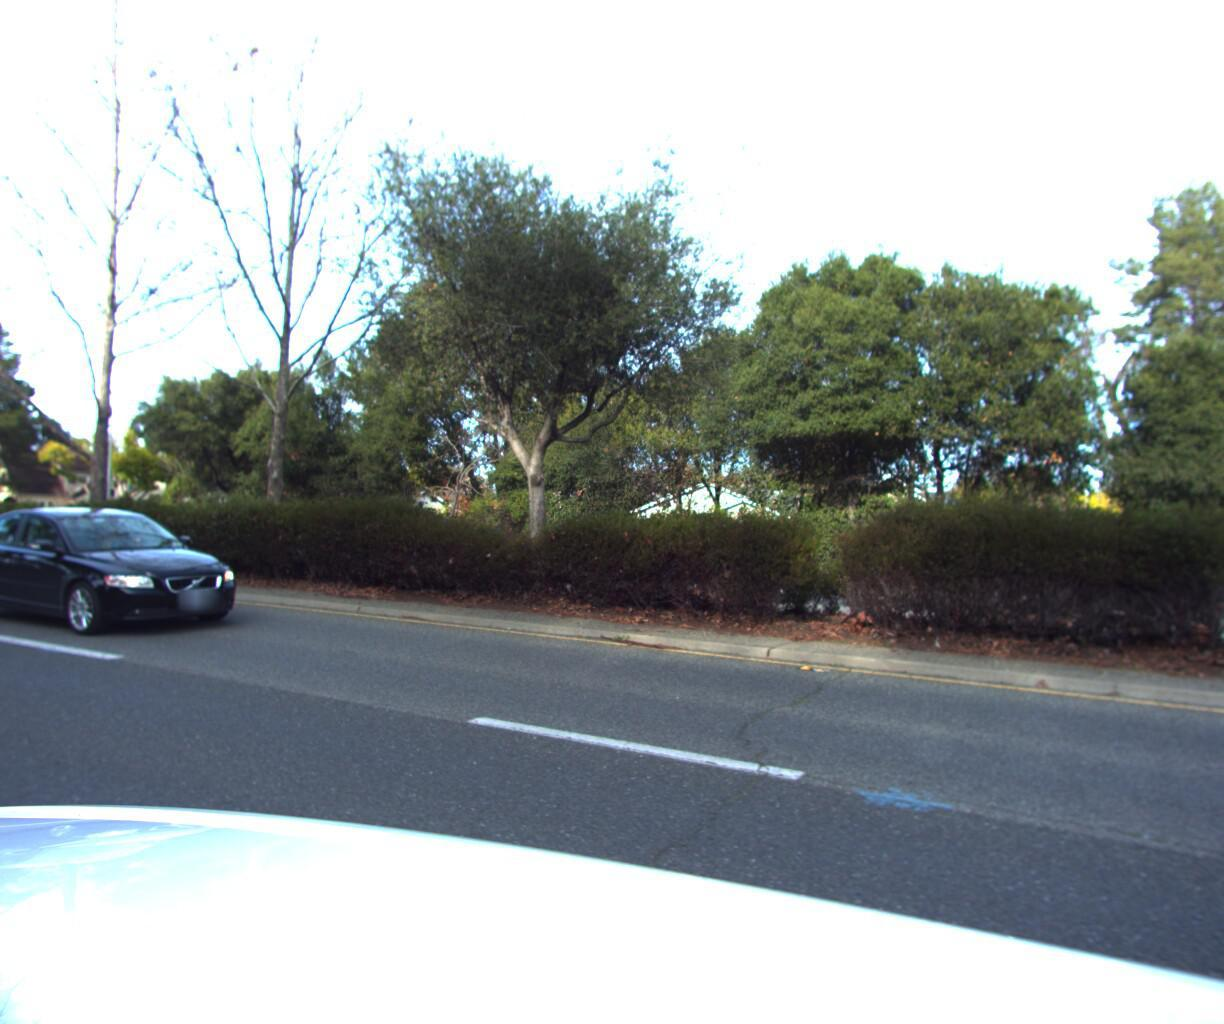car: (0, 499, 262, 640)
